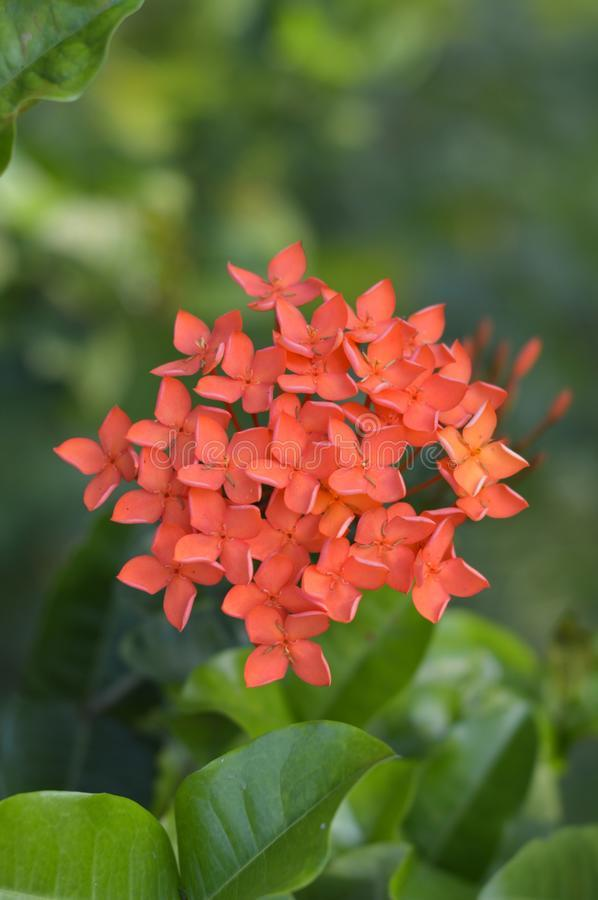ixora: (121, 523, 220, 625), (405, 527, 487, 622), (53, 410, 137, 499), (436, 408, 521, 491), (228, 241, 323, 312), (180, 497, 258, 583), (245, 614, 331, 689), (258, 416, 325, 509), (115, 453, 195, 530), (327, 422, 406, 498), (186, 422, 267, 495), (150, 311, 237, 376), (206, 337, 282, 411), (228, 560, 307, 628), (281, 333, 360, 396), (313, 547, 383, 618)
